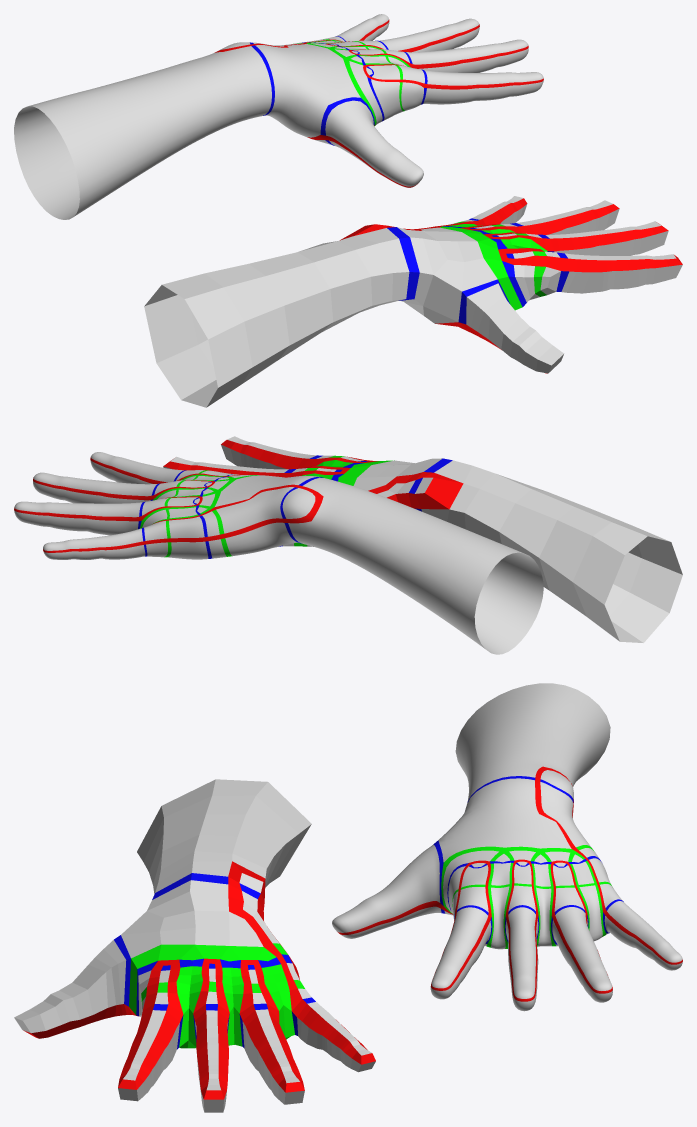
3 views of the same model, one above another, from view 1: azimuth 30°, elevation 25°; view 2: azimuth 150°, elevation 25°; view 3: azimuth 270°, elevation 25° (orthographic). The views are drawn at different scales.
Visible parts, largest first — view 1: LowPoly, HighPoly; view 2: HighPoly, LowPoly; view 3: LowPoly, HighPoly.
Boxes of the visible parts, x1,y1,x2,y2 form: LowPoly: (144, 196, 682, 407); HighPoly: (14, 14, 543, 219); HighPoly: (14, 452, 543, 654); LowPoly: (163, 436, 682, 642); LowPoly: (14, 779, 375, 1112); HighPoly: (332, 683, 682, 1011).
Bounding box in the file's own units: 205 × 84.27 × 215.
